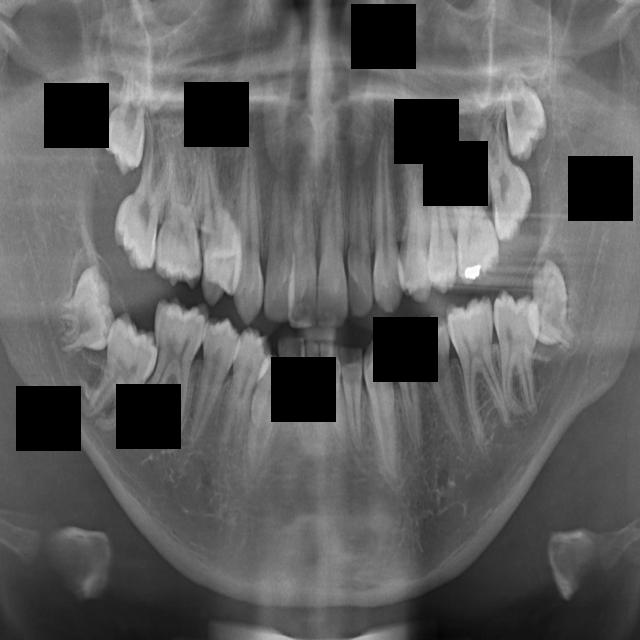3M ESPE Implant: (99, 64, 153, 178)
AGS Medikal Implant: (527, 407, 527, 408)
AMerOss Implant: (442, 292, 520, 455)
Amalgam filling: (107, 119, 180, 273)
Anthogyr Implant: (412, 311, 467, 452)
Bicon Implant: (385, 324, 430, 459)
BioHorizons Implant: (356, 336, 413, 487)
BioLife Implant: (338, 341, 374, 459)
Biomet 3i Implant: (319, 338, 350, 449)
Blue Sky Bio Implant: (300, 337, 337, 452)
Camlog Implant: (274, 331, 325, 464)
Caries: (341, 157, 375, 320)
Composite filling: (236, 336, 296, 488)
Cowellmedi Implant: (213, 324, 265, 462)
Crown: (178, 312, 242, 451)
DENTSPLY Implant: (155, 147, 206, 290)
Dentatus Implant: (126, 292, 211, 454)
Dentis Implant: (74, 308, 169, 440)
Dentium Implant: (49, 262, 118, 355)
Euroteknika Implant: (193, 146, 227, 310)
Filling: (203, 155, 248, 297)
Frontier Implant: (233, 130, 266, 323)
Hiossen Implant: (361, 119, 405, 314)
Implant: (288, 172, 320, 330)
Implant Direct: (262, 145, 298, 323)
Keystone Dental Implant: (316, 156, 353, 329)
MIS Implant: (397, 148, 432, 305)
Mandible: (425, 138, 459, 295)
Maxilla: (443, 149, 504, 286)
Megagen Implant: (471, 99, 540, 246)
Neodent Implant: (495, 58, 554, 167)
Neoss Implant: (518, 254, 582, 361)
